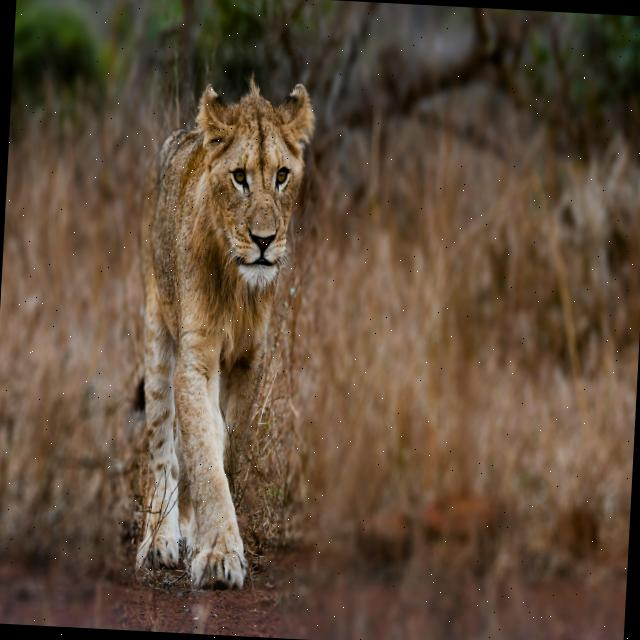Lion: (128, 66, 318, 596)
